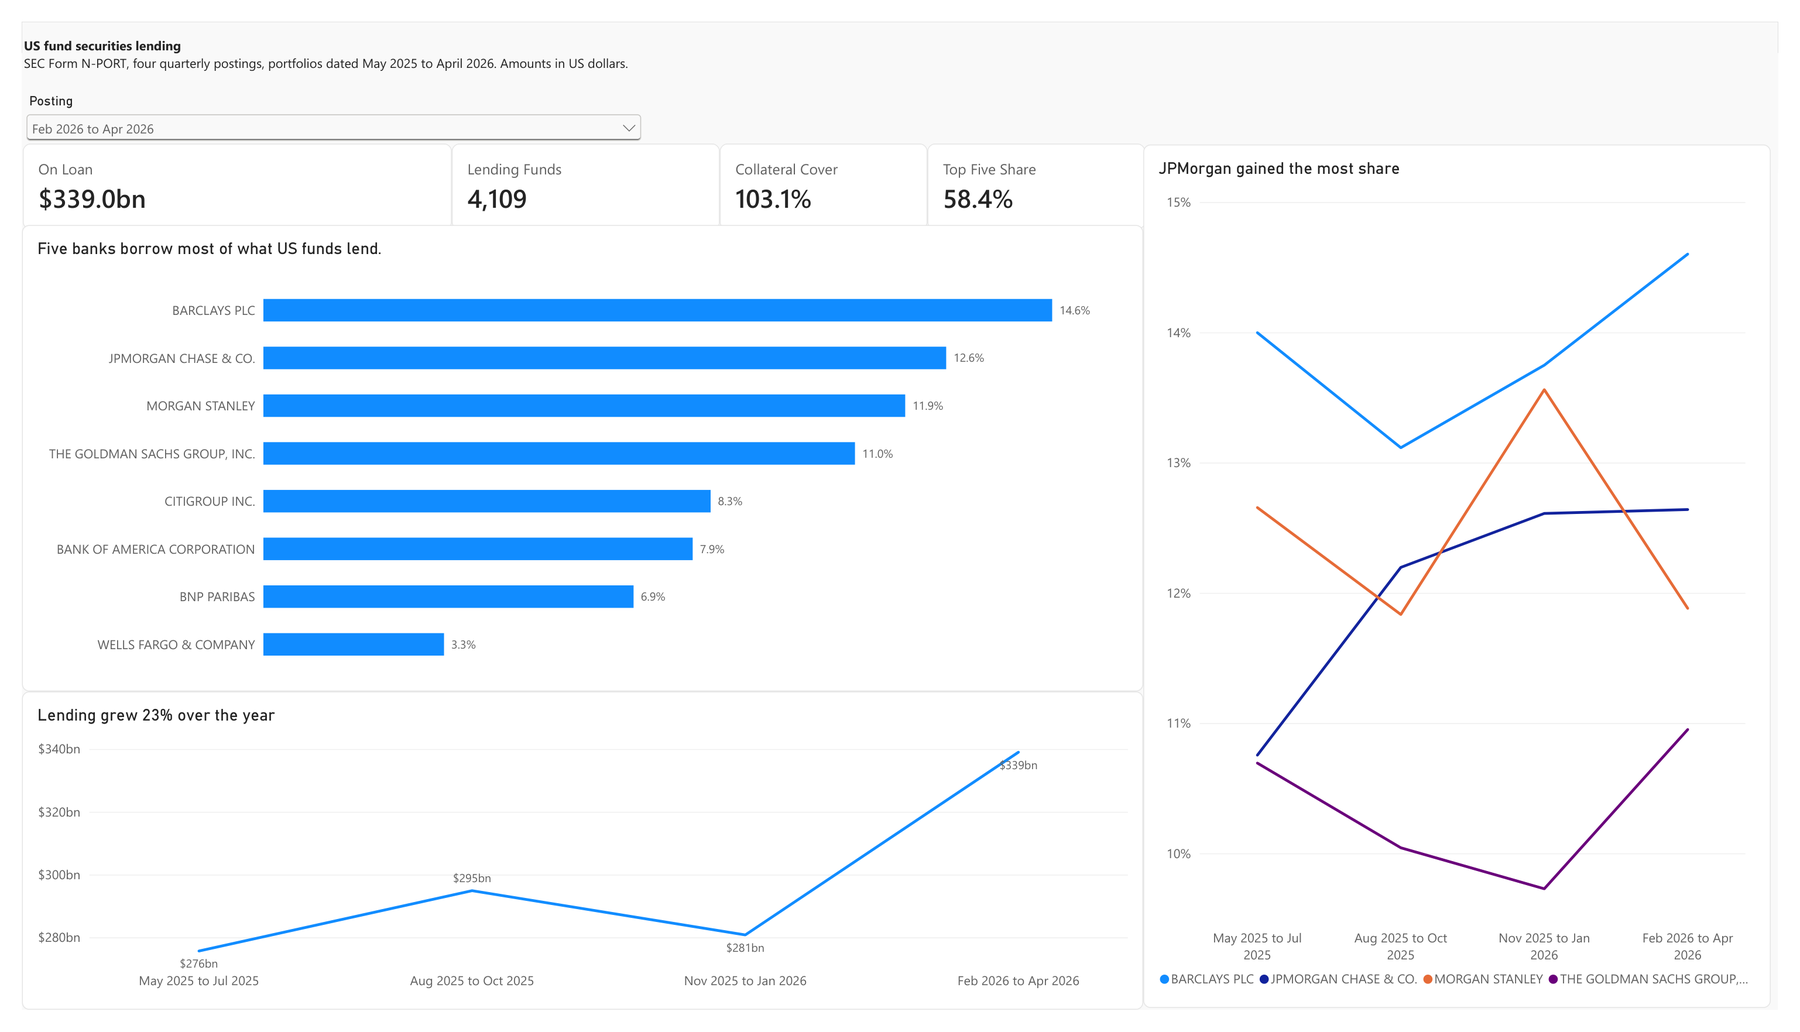

The page's visual inventory and layout, read from the dashboard file:
{"tool":"powerbi","page":{"name":"Who borrows","canvas":[1920,1080],"ordinal":0},"visuals":[{"type":"slicer","fields":{"Values":["posting.holdings_label"]},"box":[0,78,681.7,55],"z":0},{"type":"cardVisual","fields":{"Data":["Key Measures.On Loan"]},"box":[1.4,133.3,468.3,93.3],"z":1000},{"type":"cardVisual","fields":{"Data":["Key Measures.Top Five Share"]},"box":[989.7,133.3,238.3,93.3],"z":2000},{"type":"cardVisual","fields":{"Data":["Key Measures.Lending Funds Label"]},"box":[469.7,133.3,293.3,93.3],"z":3000},{"type":"cardVisual","fields":{"Data":["Key Measures.Collateral Cover"]},"box":[763.1,133.3,226.7,93.3],"z":4000},{"type":"clusteredBarChart","title":"Five banks borrow most of what US funds lend.","fields":{"Category":["borrower_groups.parent_name"],"Y":["Key Measures.Share Of Lending"]},"box":[0,222,1226,510],"z":5000},{"type":"lineChart","title":"Lending grew 23% over the year","fields":{"Category":["posting.holdings_label"],"Y":["Key Measures.On Loan"]},"box":[0,732,1226,348],"z":6000},{"type":"lineChart","title":"JPMorgan gained the most share","fields":{"Category":["posting.holdings_label"],"Series":["borrower_groups.parent_name"],"Y":["Key Measures.Share Of Lending"]},"box":[1226,134,686,944],"z":7000},{"type":"textbox","box":[2,16,926,62],"z":8000}]}

Visuals, with their boxes in screenshot pixels (x1, y1, x2, y2), scaled from the page's 1920x1080 canvas onto the 1800x1032 screenshot:
slicer - posting.holdings_label: left=0, top=75, right=639, bottom=127
cardVisual - Key Measures.On Loan: left=1, top=127, right=440, bottom=217
cardVisual - Key Measures.Top Five Share: left=928, top=127, right=1151, bottom=217
cardVisual - Key Measures.Lending Funds Label: left=440, top=127, right=715, bottom=217
cardVisual - Key Measures.Collateral Cover: left=715, top=127, right=928, bottom=217
"Five banks borrow most of what US funds lend." clusteredBarChart: left=0, top=212, right=1149, bottom=699
"Lending grew 23% over the year" lineChart: left=0, top=699, right=1149, bottom=1031
"JPMorgan gained the most share" lineChart: left=1149, top=128, right=1792, bottom=1030
textbox: left=2, top=15, right=870, bottom=75
